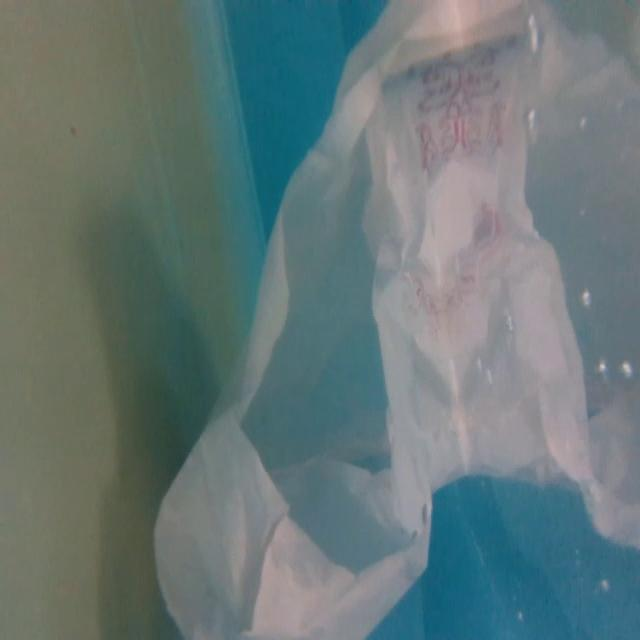plastic bags: (148, 3, 640, 640)
